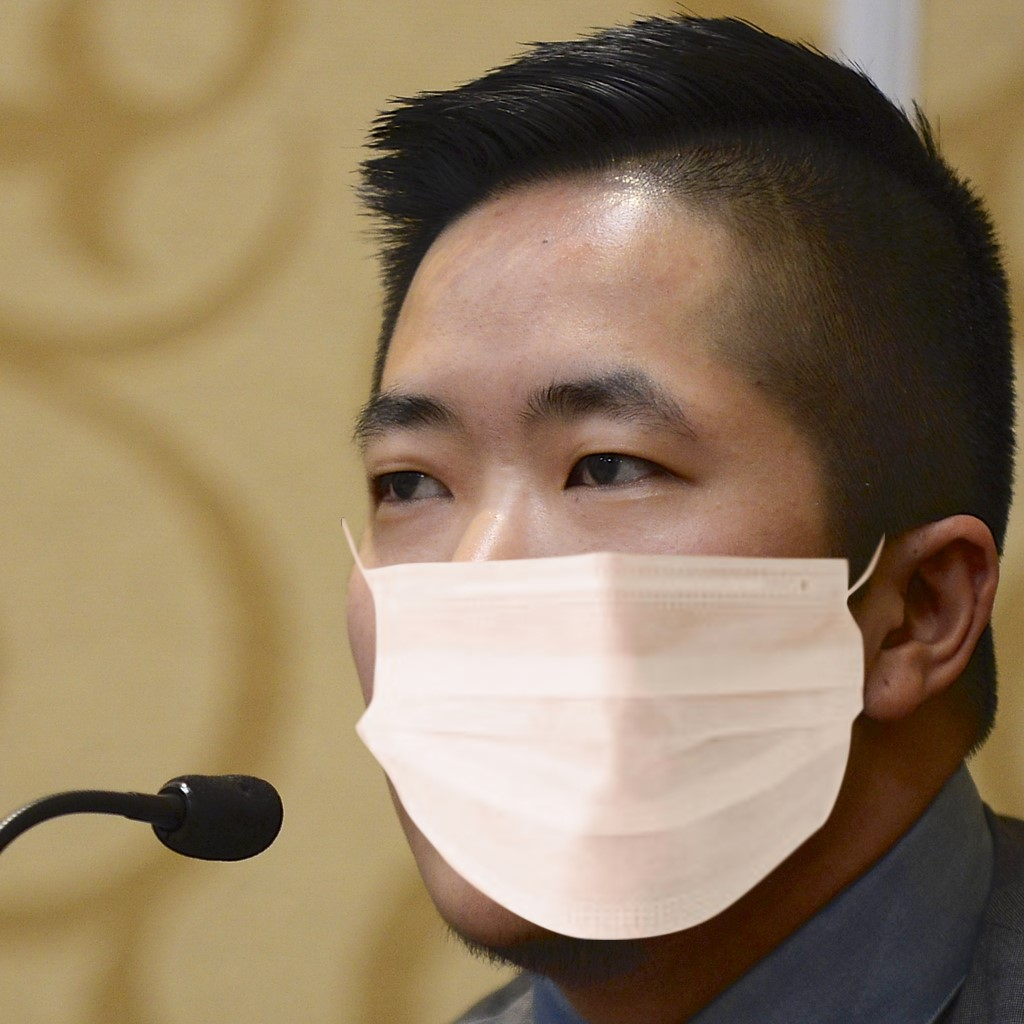con_mascara: (341, 148, 904, 963)
